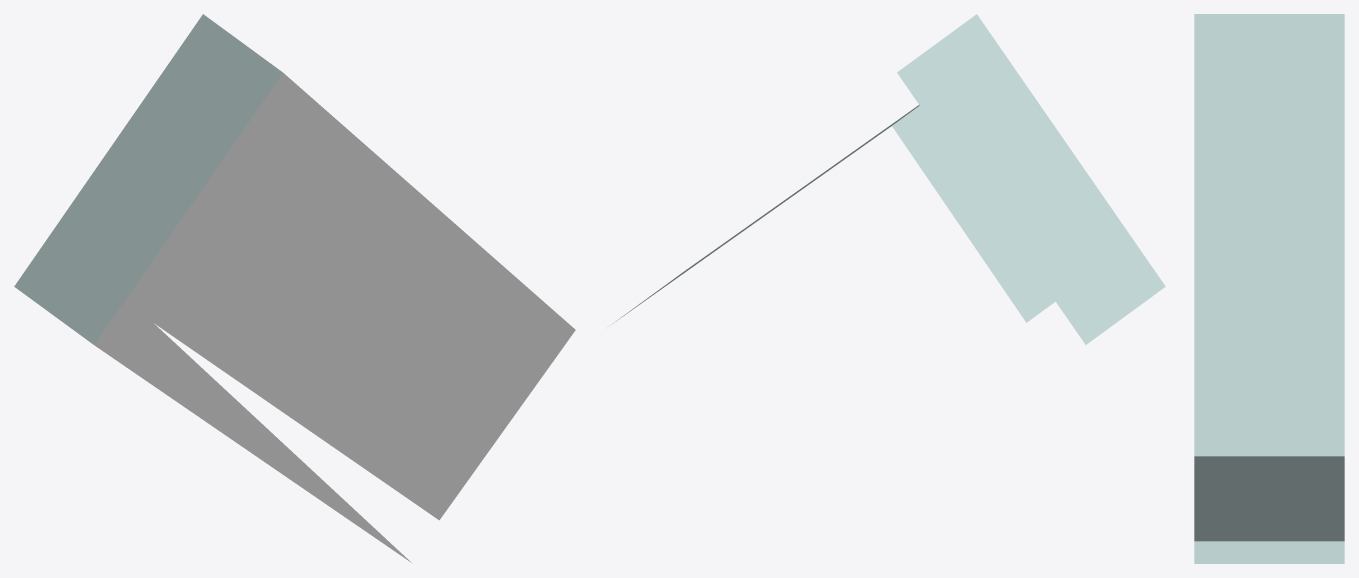
3 views of the same model, side by side, from view 1: azimuth 30°, elevation 25°; view 2: azimuth 150°, elevation 25°; view 3: azimuth 270°, elevation 25° (orthographic). The views are drawn at different scales.
Parts seen in each view (by area): view 1: 0_1_2_1_3_0_2_2; view 2: 0_1_2_1_3_0_2_2; view 3: 0_1_2_1_3_0_2_2.
Boxes of the visible parts, box(x1,y1,x2,y2) form: 0_1_2_1_3_0_2_2: box(14, 14, 575, 563); 0_1_2_1_3_0_2_2: box(613, 14, 1165, 344); 0_1_2_1_3_0_2_2: box(1194, 14, 1344, 563).
Size of the model in its own units: 10.42 by 10.82 by 3.
